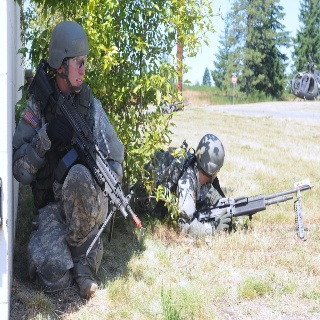rifle: (28, 59, 144, 229), (194, 184, 311, 222)
